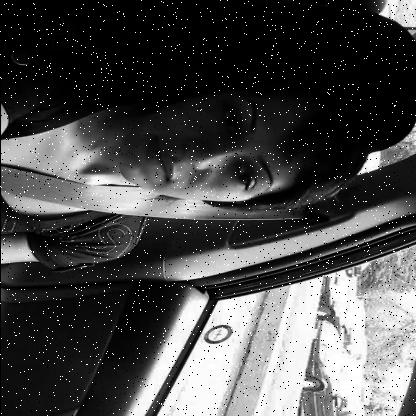seatbelt: (0, 81, 362, 238)
